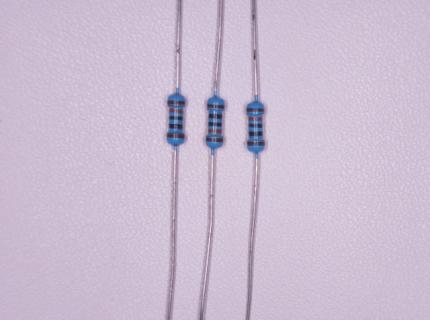Black band: (169, 116, 183, 121), (169, 124, 183, 129), (209, 114, 222, 119), (249, 131, 262, 136), (249, 124, 262, 128), (209, 122, 221, 126)
Brown band: (168, 101, 185, 105), (208, 104, 225, 108), (247, 108, 264, 112), (206, 138, 223, 142), (167, 134, 184, 138), (248, 142, 264, 146)
Orange band: (169, 108, 183, 114), (208, 129, 221, 133), (249, 117, 262, 121)
